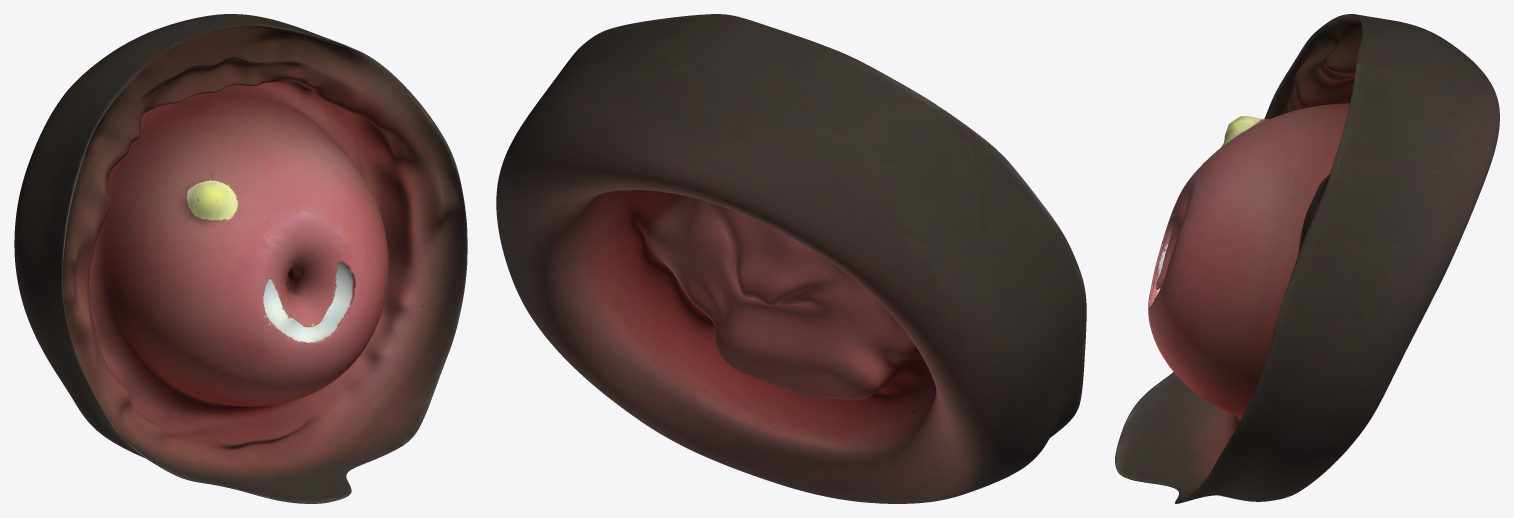
The picture shows the model from 3 angles, left to right: view 1: azimuth 30°, elevation 25°; view 2: azimuth 150°, elevation 25°; view 3: azimuth 270°, elevation 25°; orthographic projection. The views are drawn at different scales.
Parts seen in each view (by area): view 1: node_0; view 2: node_0; view 3: node_0.
Boxes of the visible parts, x1=… form: node_0: x1=14, y1=14, x2=467, y2=503; node_0: x1=496, y1=14, x2=1086, y2=503; node_0: x1=1115, y1=14, x2=1499, y2=503.
Bounding box in the file's own units: 1.02 × 0.9513 × 0.7679.
1 material, 1 textured.
